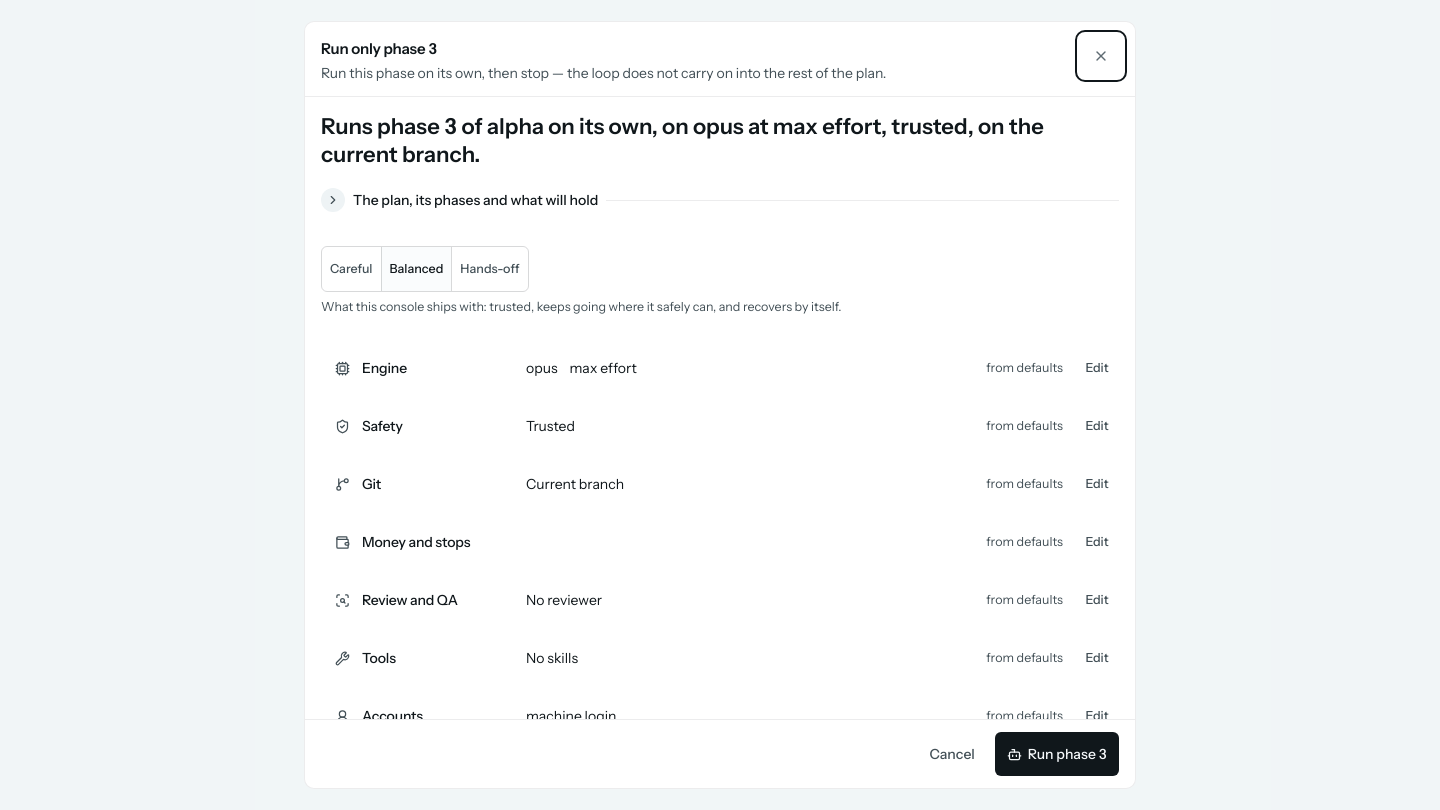
Test: the field matrix › a phase launch is the quick view, and carries the git section in its Git tile
The image size is (1440, 810).
Expected: the element with test id "quick-view" is shown, [321, 113, 1119, 719]
Click the button "Edit" in the row of "Git" at x=1097, y=484, box [1075, 462, 1119, 506]
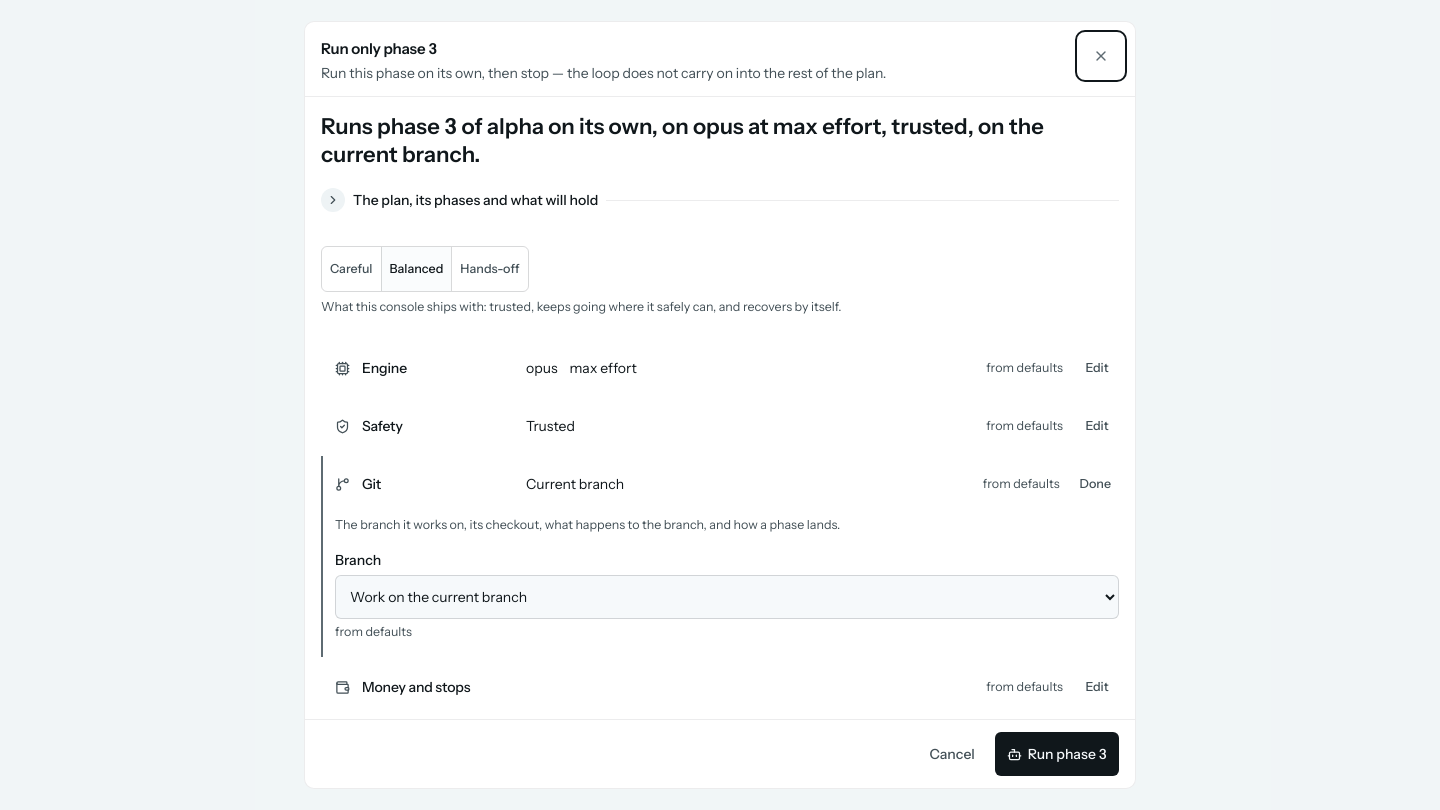
Expected: the text "When the plan completes" is not shown
Expected: the dropdown labelled "Branch" shows "Work on the current branch"
Select "Create a work branch per run (pe/alpha)" in the dropdown labelled "Branch" at x=727, y=597, box [335, 575, 1119, 619]
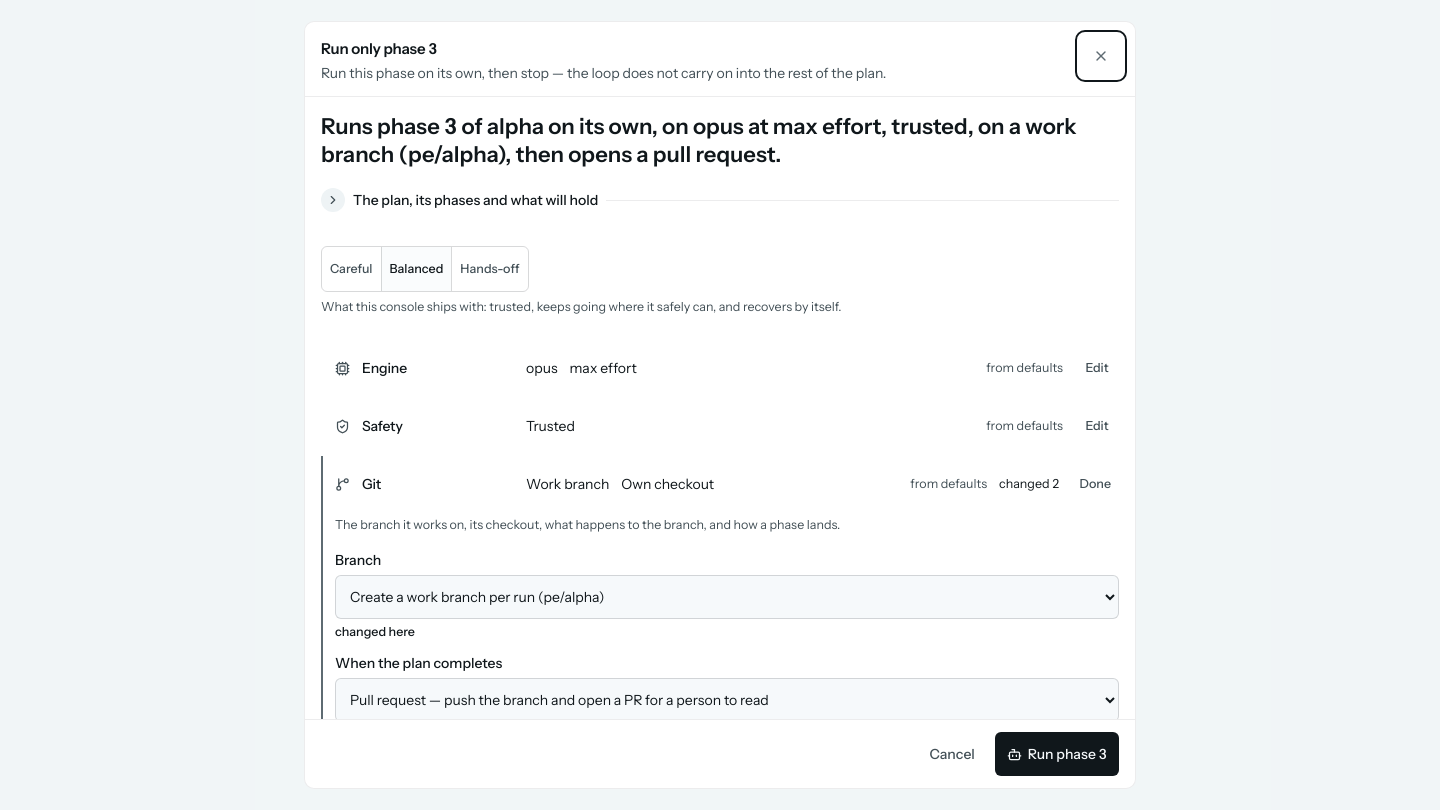
Expected: the text "When the plan completes" is shown, [335, 654, 502, 672]
